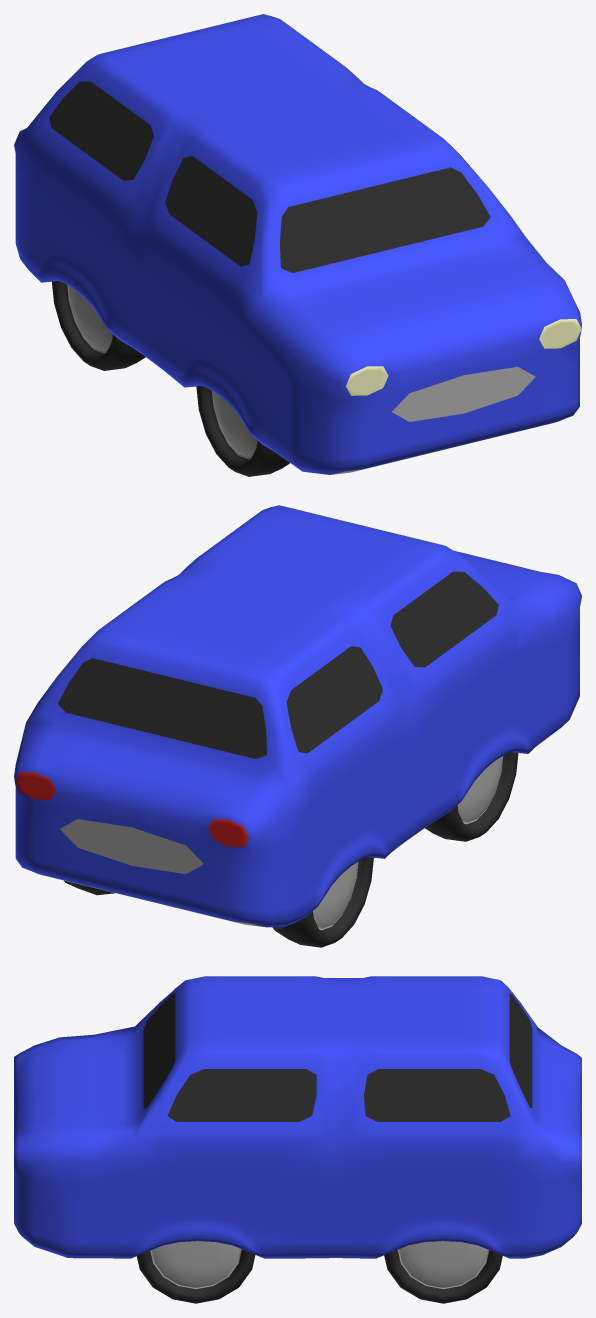
File: Toycar.FBX
3 views of the same model, one above another, from view 1: azimuth 30°, elevation 25°; view 2: azimuth 150°, elevation 25°; view 3: azimuth 270°, elevation 25° (orthographic). The views are drawn at different scales.
Parts seen in each view (by area): view 1: Box001, Cylinder003, Cylinder004; view 2: Box001, Cylinder003, Cylinder004; view 3: Box001, Cylinder002, Cylinder001.
Part boxes in pixels (bbox=[...]): Box001: bbox=[14, 14, 581, 474]; Cylinder003: bbox=[52, 281, 145, 370]; Cylinder004: bbox=[196, 386, 289, 476]; Box001: bbox=[14, 505, 581, 927]; Cylinder003: bbox=[272, 857, 373, 947]; Cylinder004: bbox=[425, 752, 518, 841]; Box001: bbox=[14, 976, 581, 1258]; Cylinder002: bbox=[384, 1241, 502, 1303]; Cylinder001: bbox=[136, 1241, 255, 1303].
Size of the model in its own units: 40.17 by 38.66 by 82.24.
2 materials, 2 textured.
